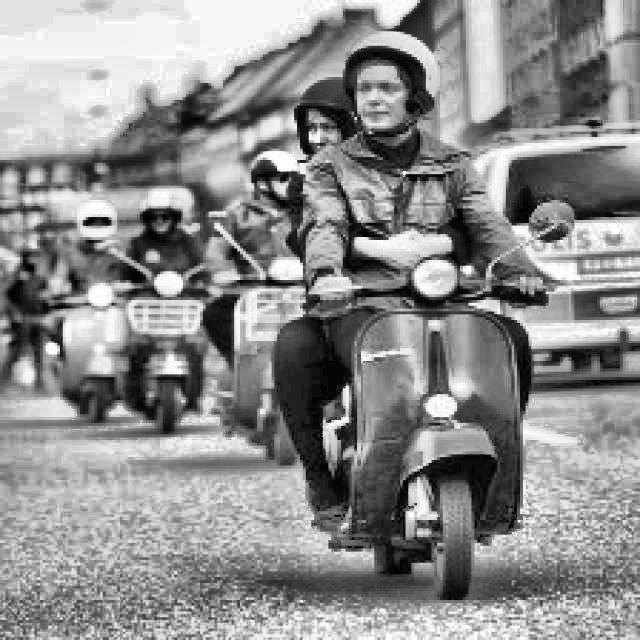motorcycle: (263, 178, 563, 600), (199, 196, 315, 469), (103, 230, 229, 437), (40, 262, 134, 425)
